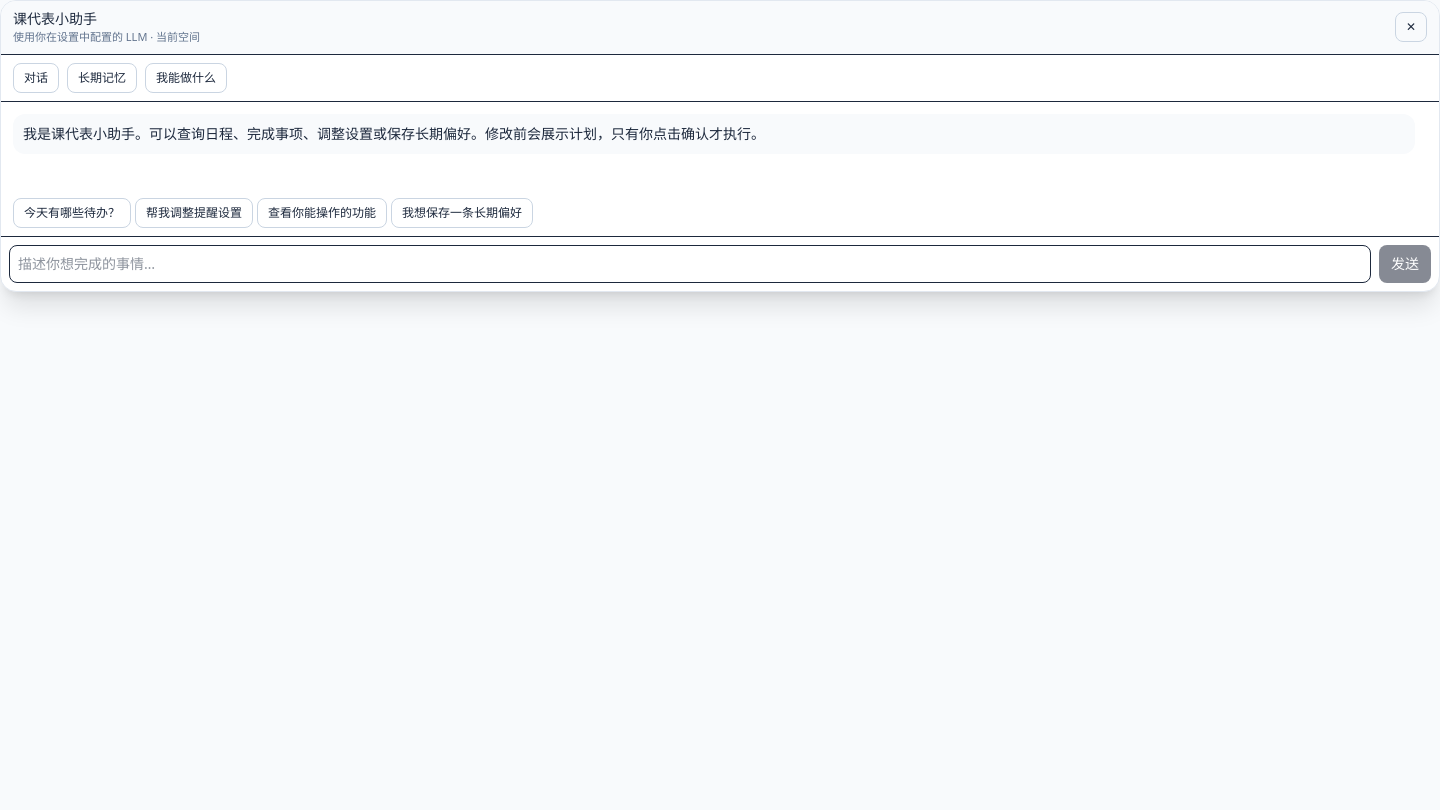
错误回执如实显示未完成，任意模型URL不产生链接
The width and height of the screenshot is (1440, 810).
Type "操作" into the field named "给助手的消息" at (690, 264), box [9,244,1371,282]
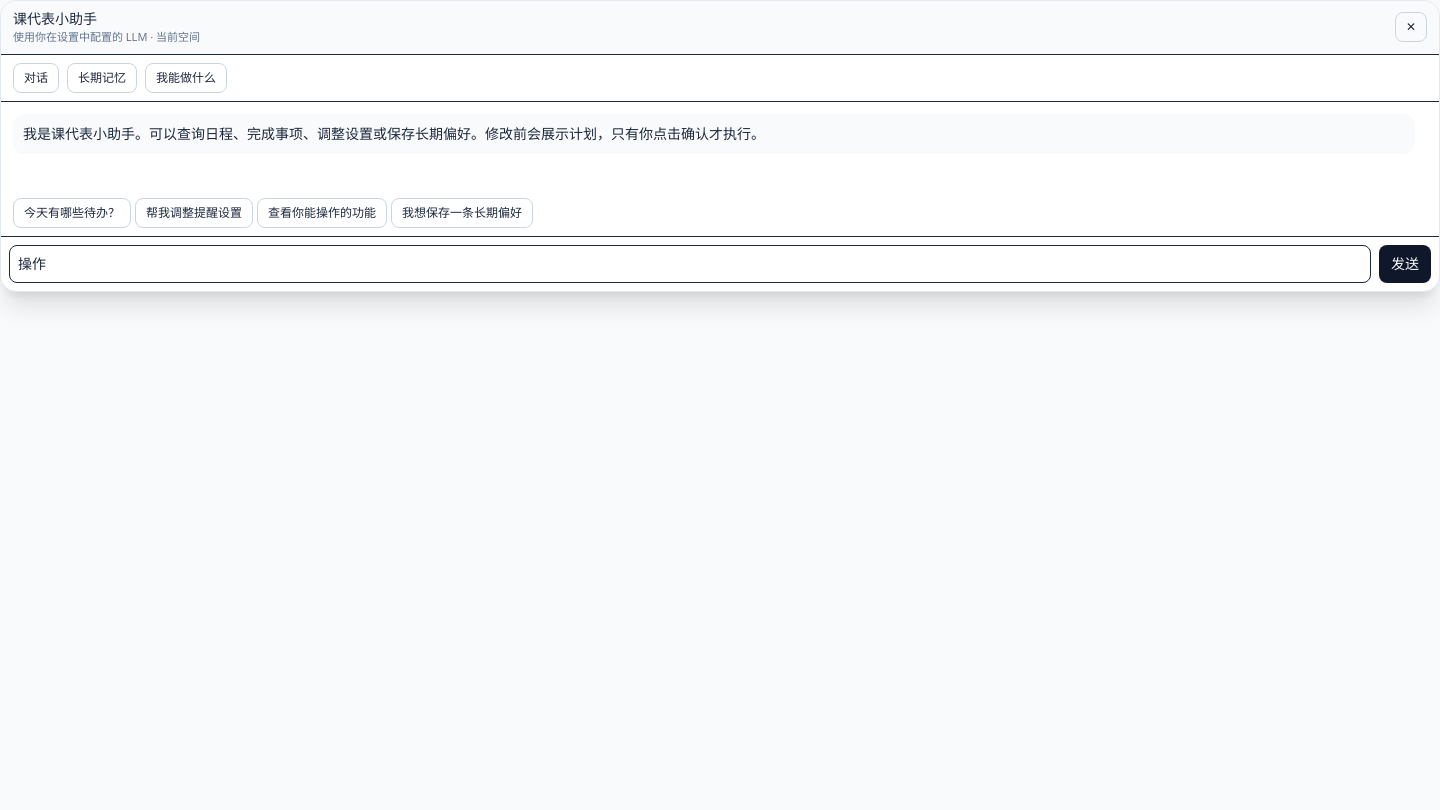
Click the button "发送" at (1405, 264), box [1379,244,1431,282]
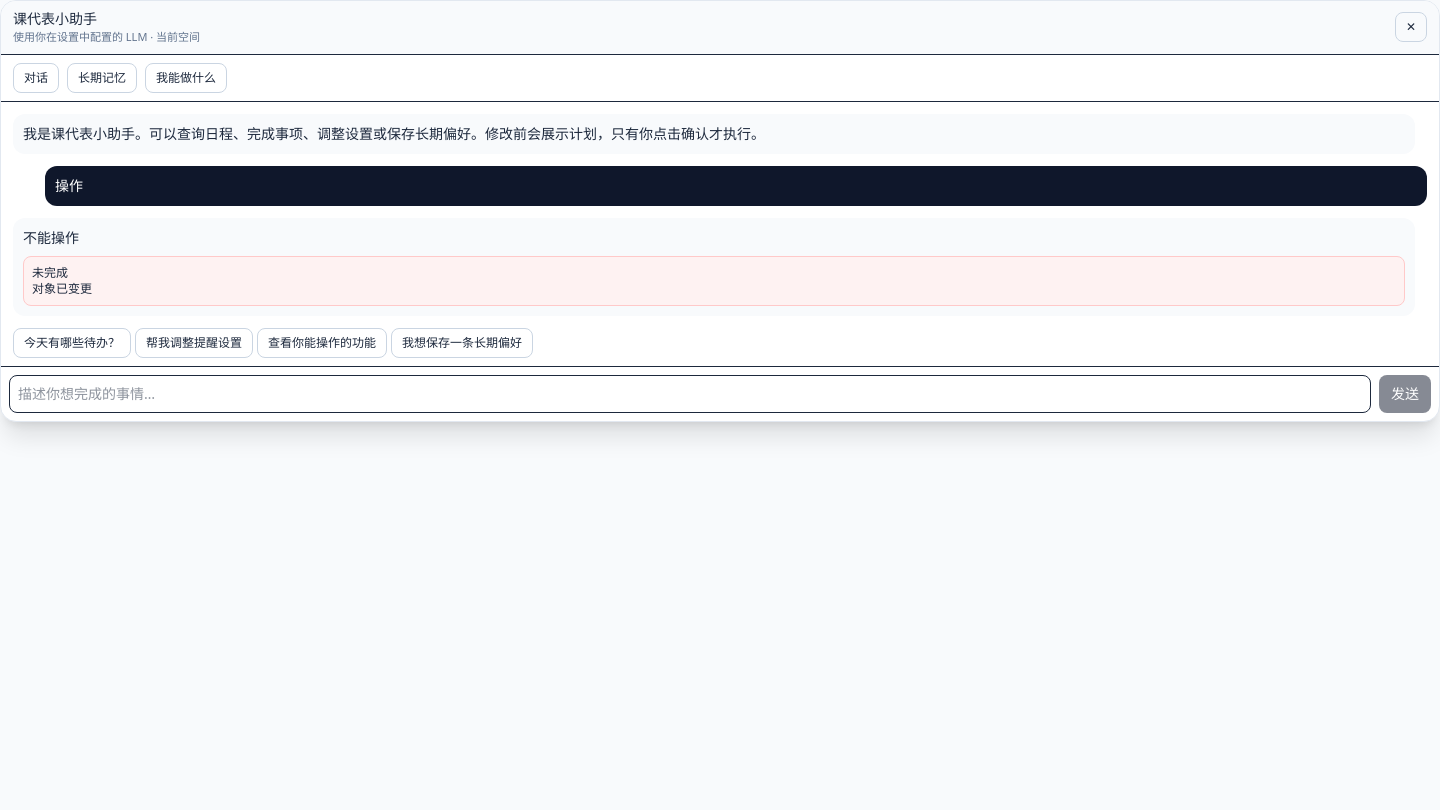
Expected: the text "对象已变更" is shown, [32,280,92,296]
Expected: the text "未完成" is shown, [32,264,68,280]
